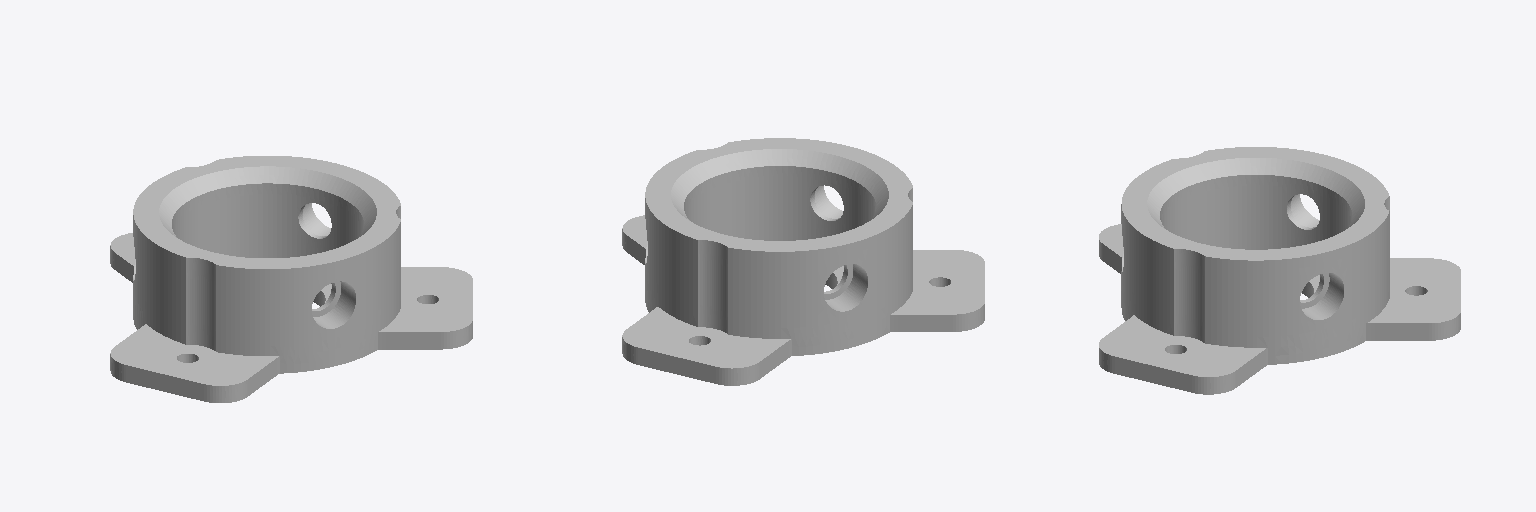
File: chuck_2x.obj
3 renders of one model, left to right at view 1: azimuth 30°, elevation 25°; view 2: azimuth 150°, elevation 25°; view 3: azimuth 270°, elevation 25°, orthographic.
Parts seen in each view (by area): view 1: chuck_2x; view 2: chuck_2x; view 3: chuck_2x.
Part boxes in pixels (bbox=[...]): chuck_2x: bbox=[110, 156, 472, 402]; chuck_2x: bbox=[622, 138, 984, 385]; chuck_2x: bbox=[1099, 147, 1460, 394].
Size of the model in its own units: 63.76 by 18 by 56.56.